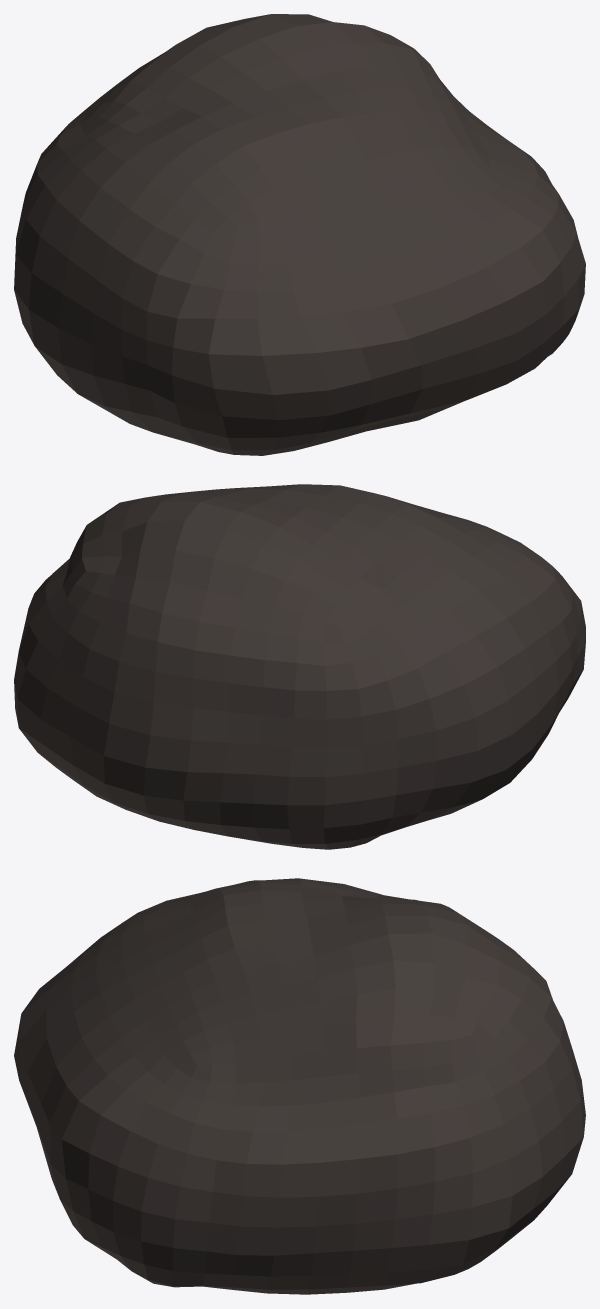
The model's file is Rock.glb.
3 views of the same model, one above another, from view 1: azimuth 30°, elevation 25°; view 2: azimuth 150°, elevation 25°; view 3: azimuth 270°, elevation 25° (orthographic). The views are drawn at different scales.
Parts seen in each view (by area): view 1: Cube; view 2: Cube; view 3: Cube.
Boxes of the visible parts, bbox=[...] form: Cube: bbox=[14, 14, 585, 455]; Cube: bbox=[14, 484, 585, 849]; Cube: bbox=[14, 878, 585, 1294].
Bounding box in the file's own units: 3.52 × 2.14 × 3.51.
1 material, 1 textured.
